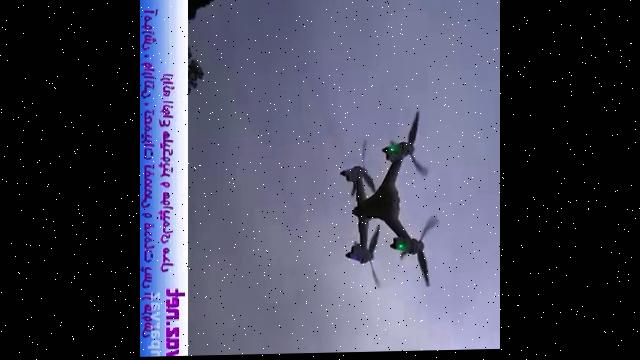drone: (340, 111, 442, 296)
